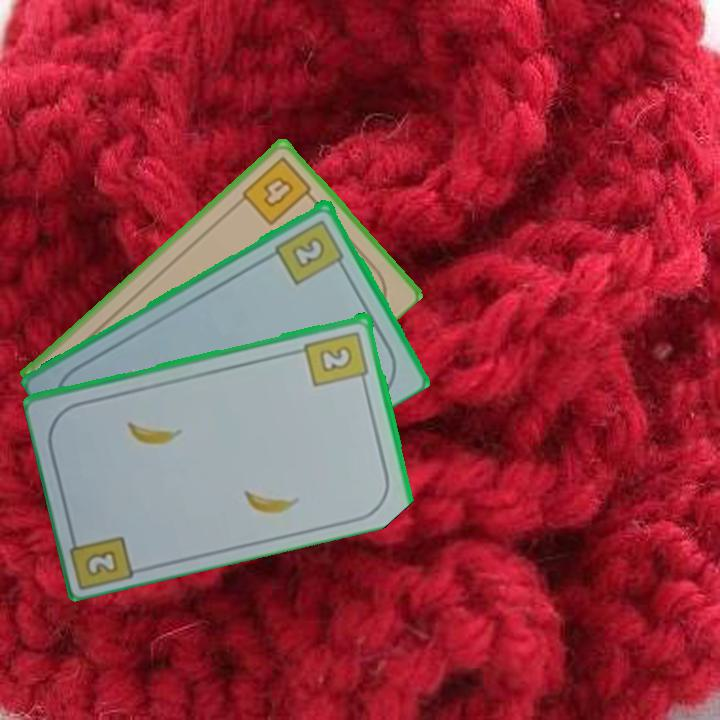2b: (272, 215, 349, 287), (302, 327, 371, 389), (82, 546, 122, 579)
4b: (238, 152, 319, 229)
